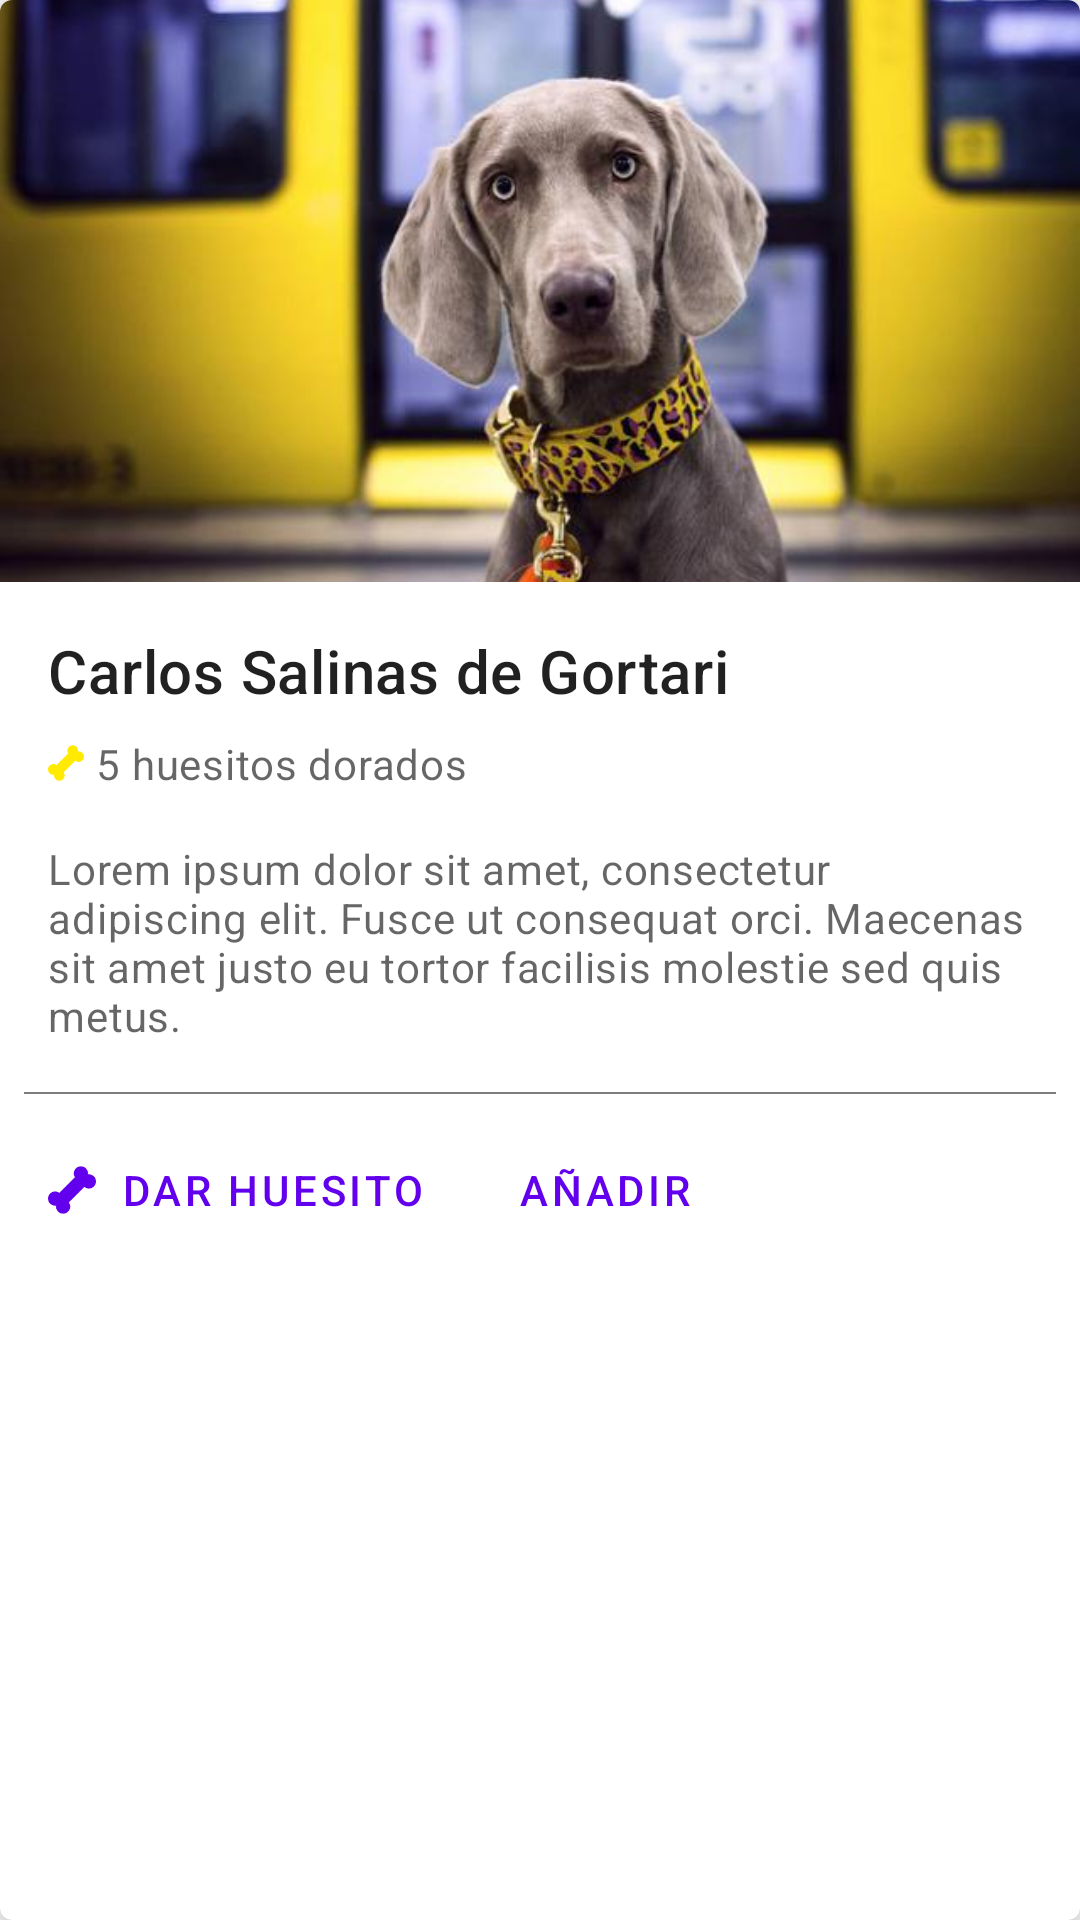

Where icons sit on this 1080 x 1920 app screen, as (x1, y1, x2, y2):
bone rate: (48, 745, 84, 781)
